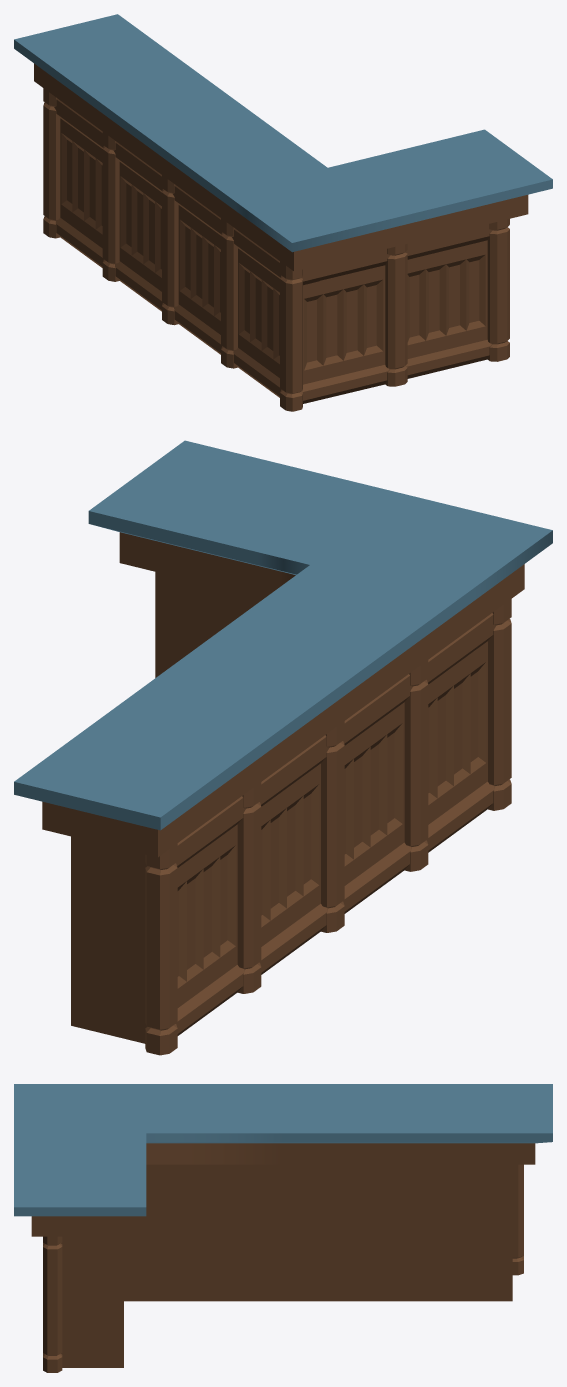
Rendered from ME_SP_Counter.fbx.
3 renders of one model, top to bottom at view 1: azimuth 30°, elevation 25°; view 2: azimuth 150°, elevation 25°; view 3: azimuth 270°, elevation 25°, orthographic. The views are drawn at different scales.
Parts seen in each view (by area): view 1: ME_SP_Counter; view 2: ME_SP_Counter; view 3: ME_SP_Counter.
Boxes of the visible parts, x1,y1,x2,y2 form: ME_SP_Counter: (14, 14, 552, 411); ME_SP_Counter: (14, 440, 552, 1055); ME_SP_Counter: (14, 1084, 552, 1372).
Size of the model in its own units: 18520 by 12442 by 34206.
